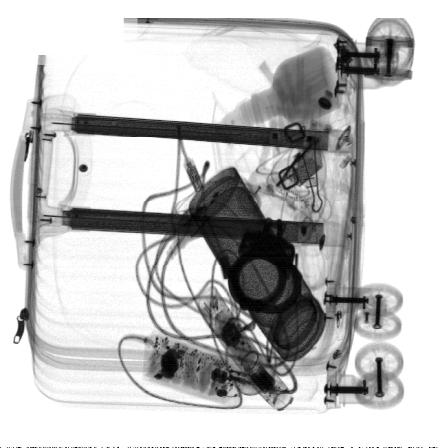Baton: (196, 286, 289, 409)
HandCuffs: (227, 216, 302, 315)
